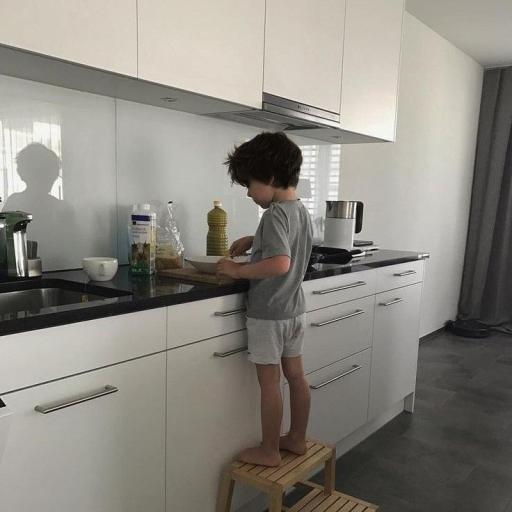bus_stop: (218, 133, 312, 466)
